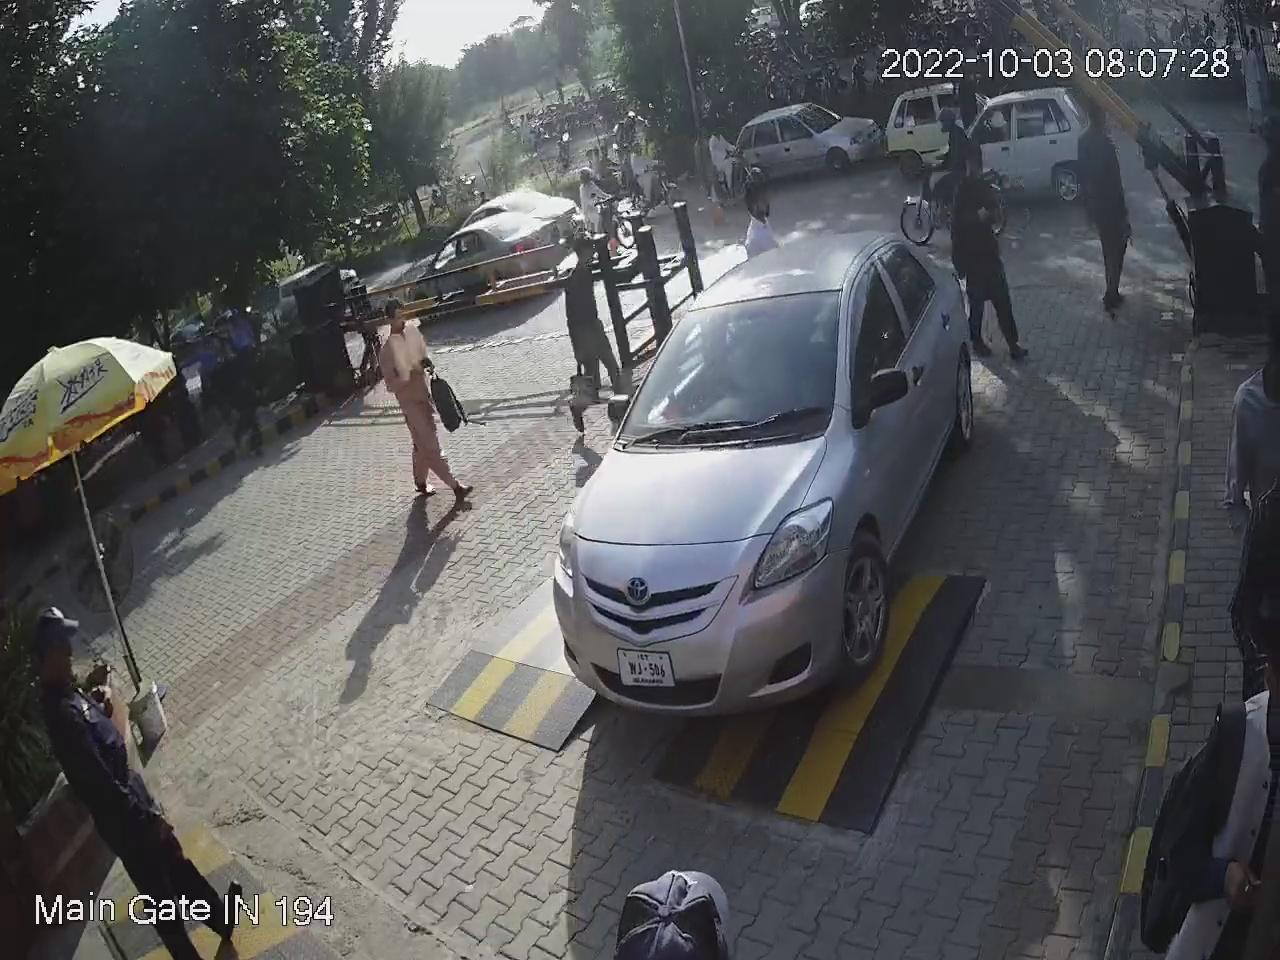windshield: (623, 285, 851, 445)
